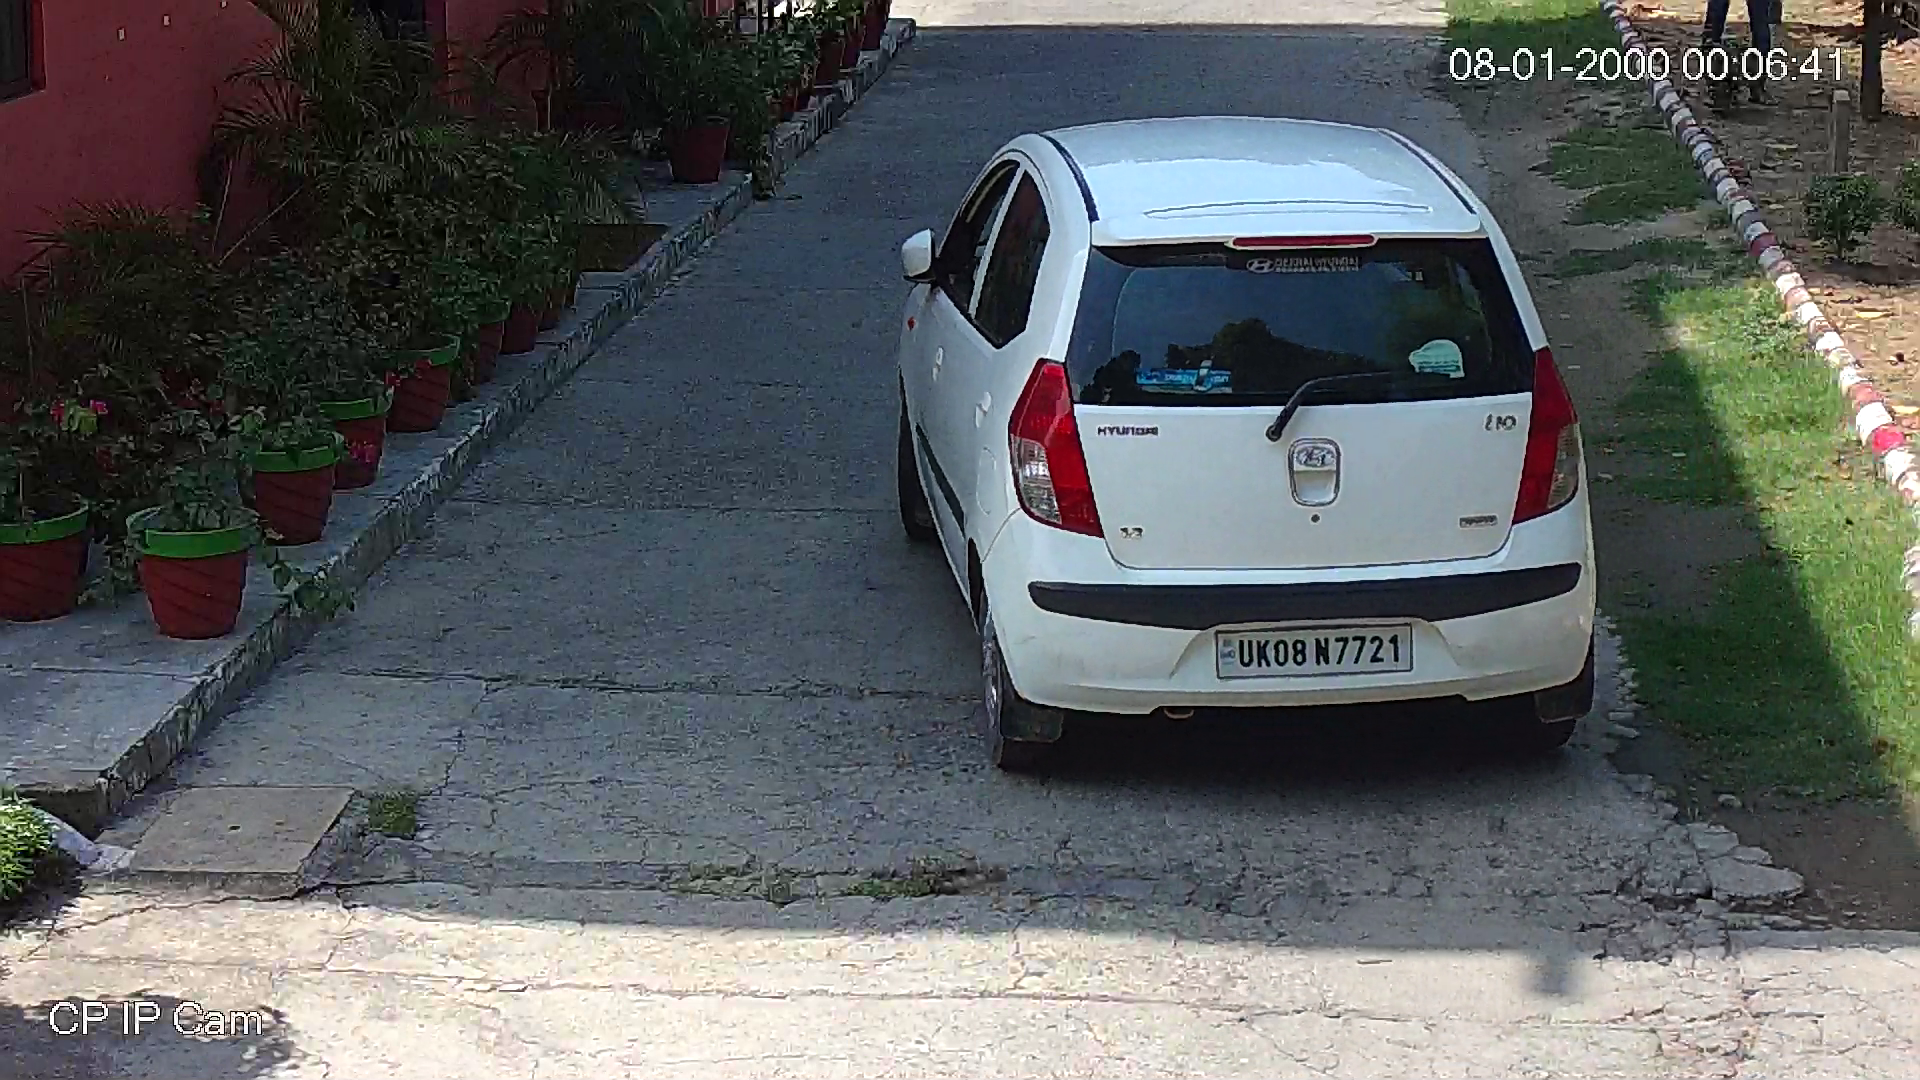plate: (1209, 616, 1414, 687)
